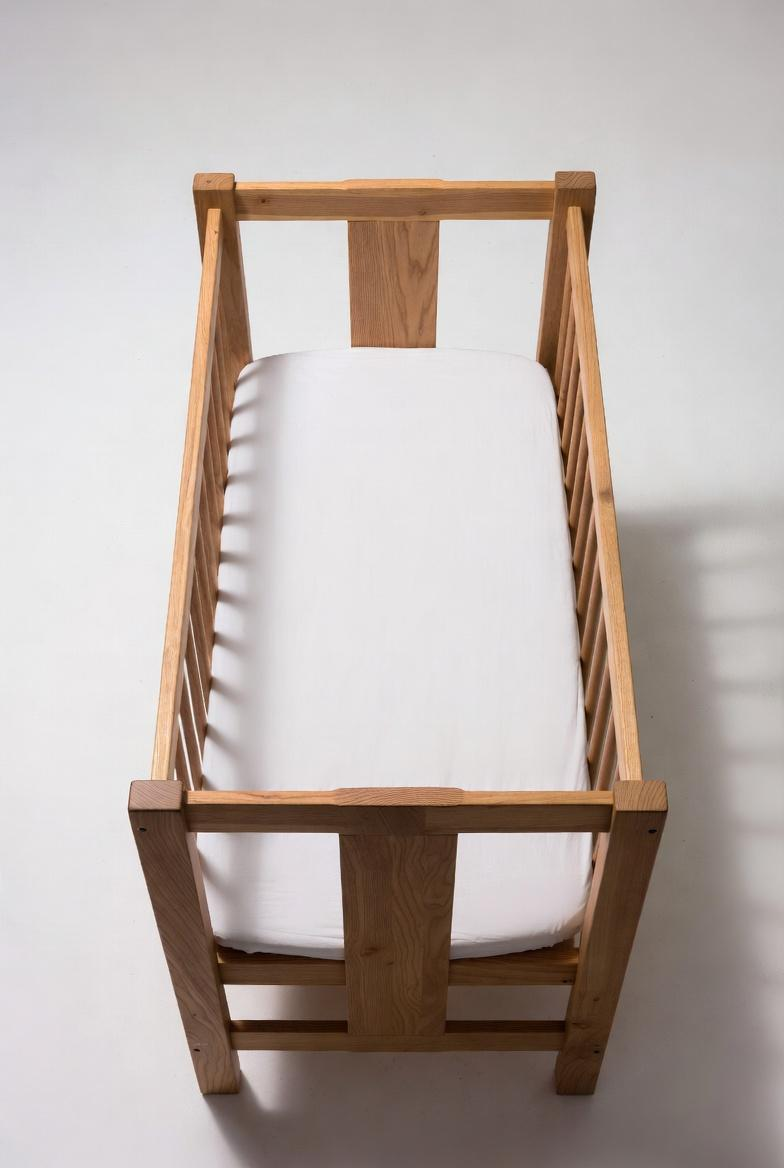crib: (129, 172, 666, 1094)
